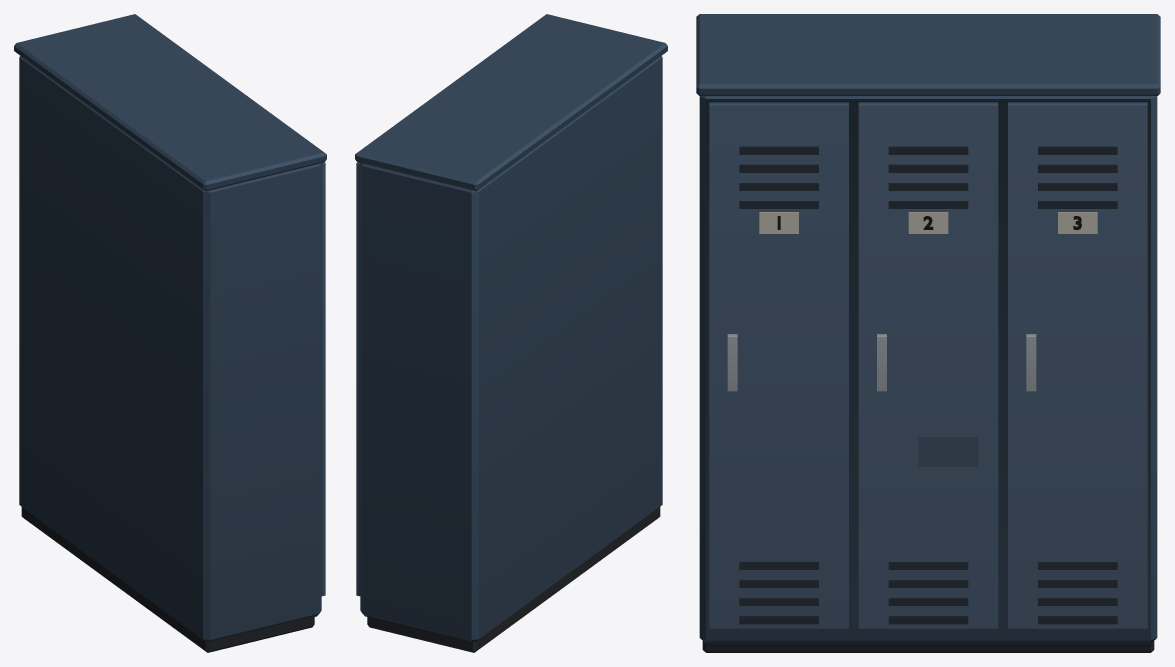
Rendered from locker_row.glb.
3 views of the same model, side by side, from view 1: azimuth 30°, elevation 25°; view 2: azimuth 150°, elevation 25°; view 3: azimuth 270°, elevation 25° (orthographic). The views are drawn at different scales.
Parts seen in each view (by area): view 1: Body; view 2: Body; view 3: Body.
Boxes of the visible parts, x1=… form: Body: x1=14, y1=14, x2=326, y2=652; Body: x1=355, y1=14, x2=667, y2=652; Body: x1=696, y1=14, x2=1160, y2=652.
Bounding box in the file's own units: 0.555 × 1.91 × 1.4.
